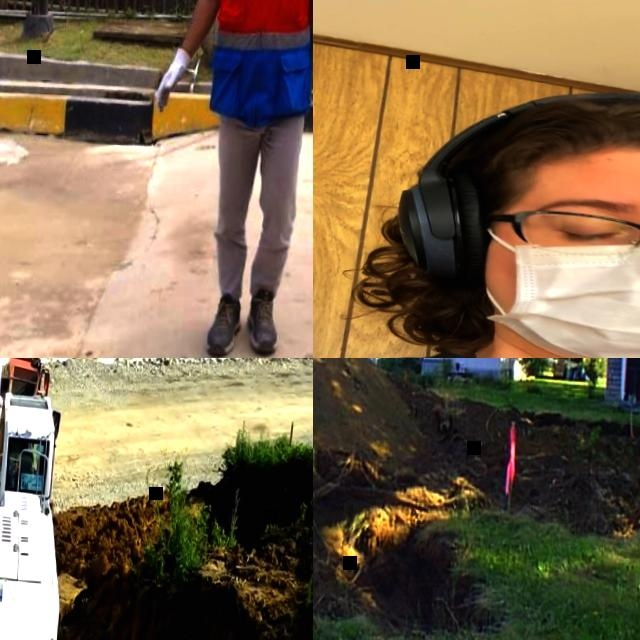Hardhat: (462, 83, 640, 197)
Mask: (477, 228, 640, 358)
Person: (313, 69, 640, 358), (139, 0, 313, 358)
Safety Vest: (208, 0, 313, 59)
machinery: (0, 358, 81, 640)
